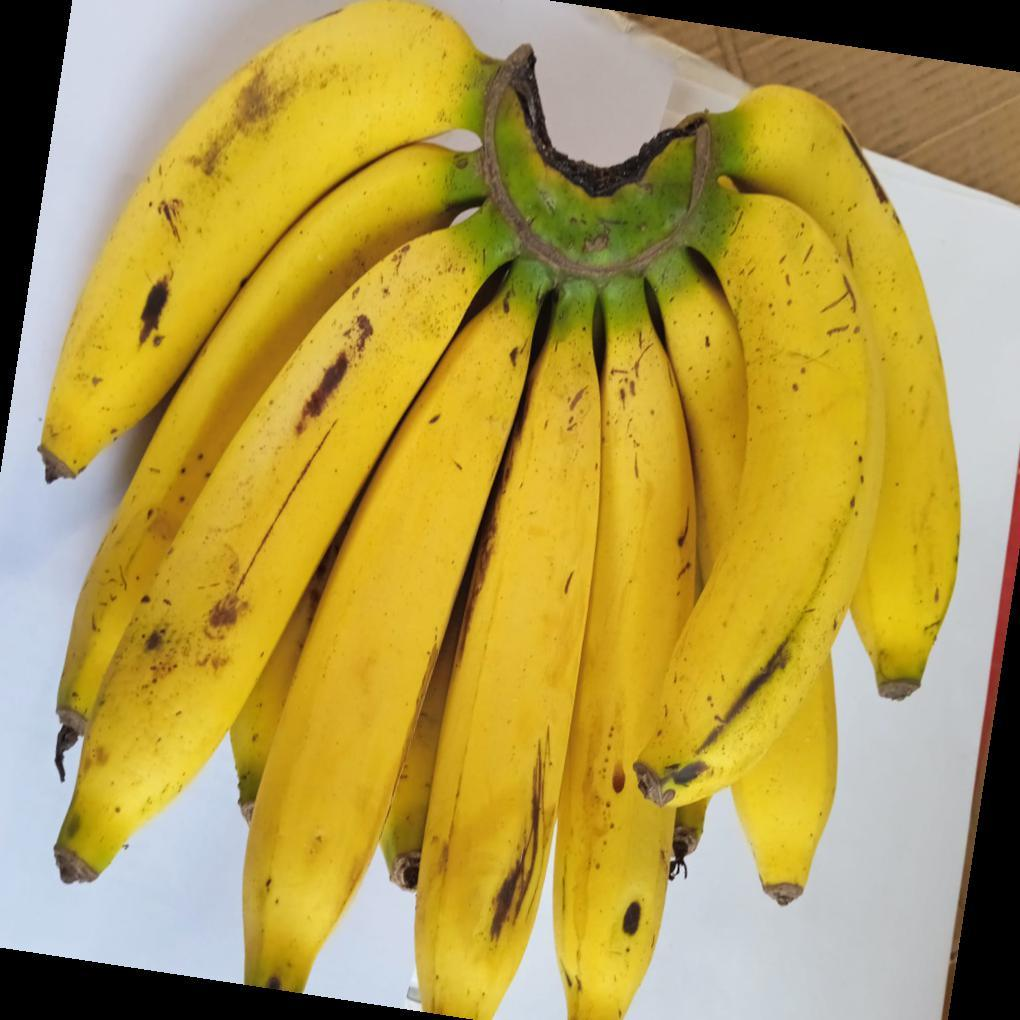Banana Ripe: (52, 1, 982, 1020), (62, 4, 477, 1020), (386, 107, 769, 1020)
